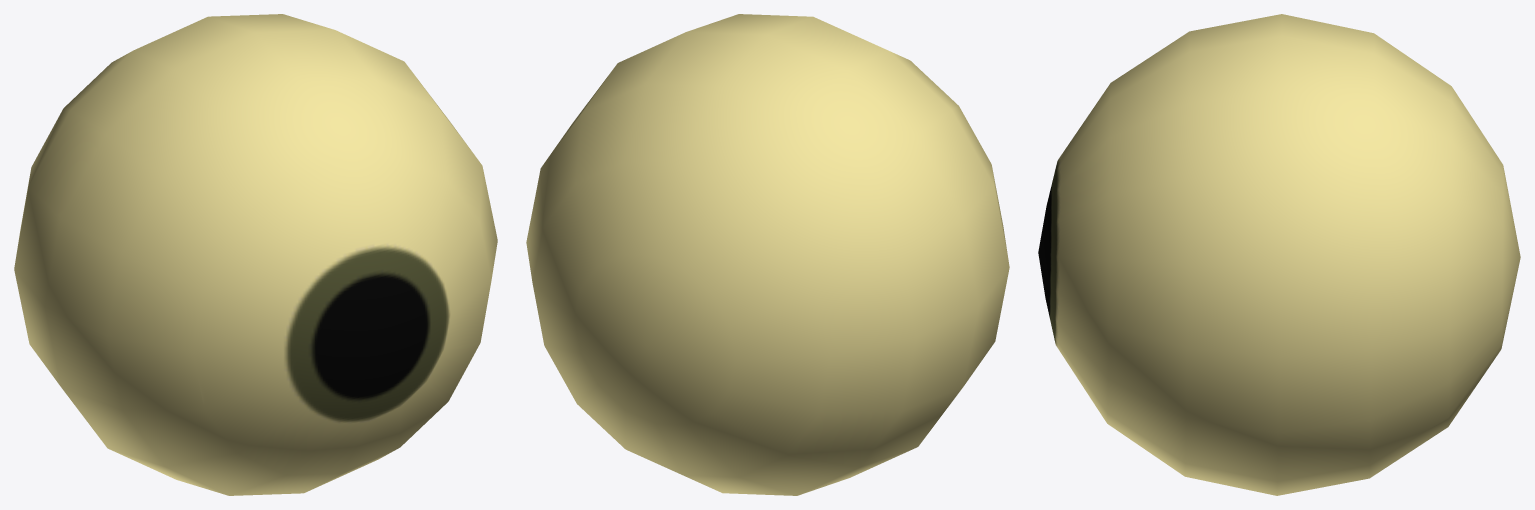
Rendered from Heart Boss Eye.fbx.
The picture shows the model from 3 angles, left to right: view 1: azimuth 30°, elevation 25°; view 2: azimuth 150°, elevation 25°; view 3: azimuth 270°, elevation 25°; orthographic projection.
Visible parts, largest first — view 1: Eye; view 2: Eye; view 3: Eye.
Part boxes in pixels (x1=…): Eye: x1=14, y1=14, x2=497, y2=495; Eye: x1=526, y1=14, x2=1009, y2=495; Eye: x1=1038, y1=14, x2=1520, y2=495.
Size of the model in its own units: 63.8 by 63.79 by 63.79.
